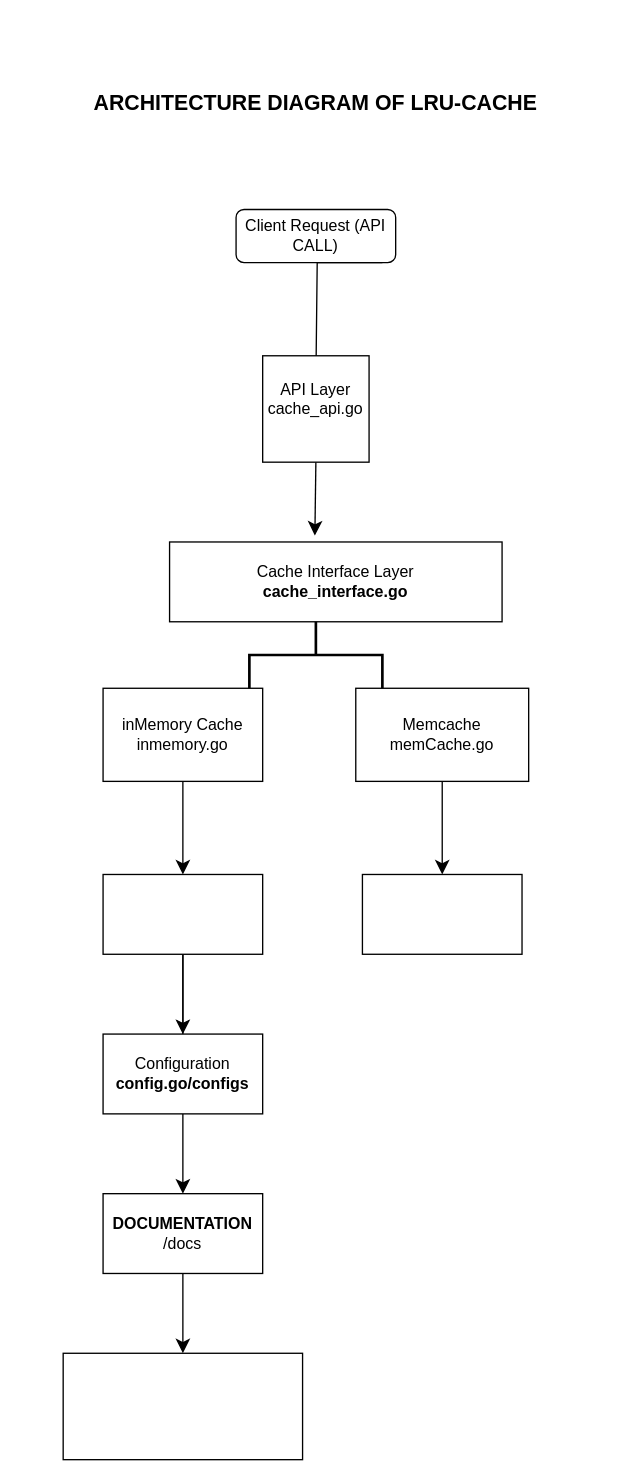
This 630x1483 diagram has some shape labels left out. The shapes that lost their labels are listed below. From the top down, each one's box as (x1, y1, x2, y2) in pixels, then its label:
(102, 873, 263, 954): In - Memory Storage
(361, 873, 522, 954): Memcached Server
(62, 1352, 303, 1460): TESTING /benchmarks,/unit,/integration
